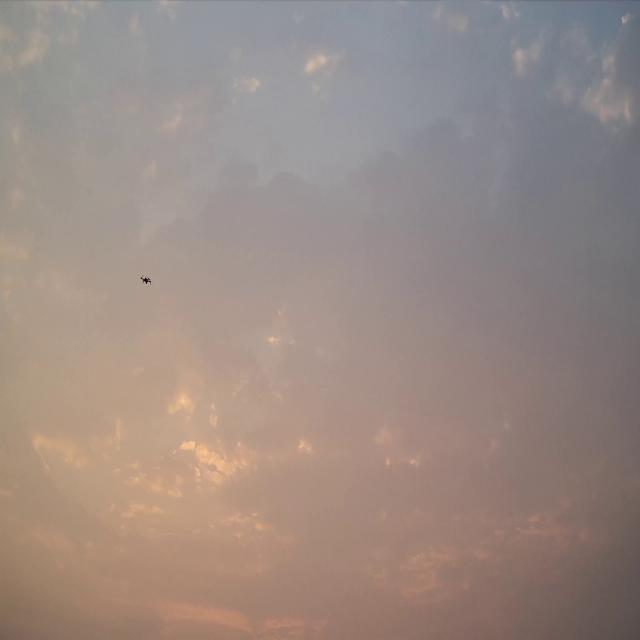UAV: (140, 274, 153, 284)
